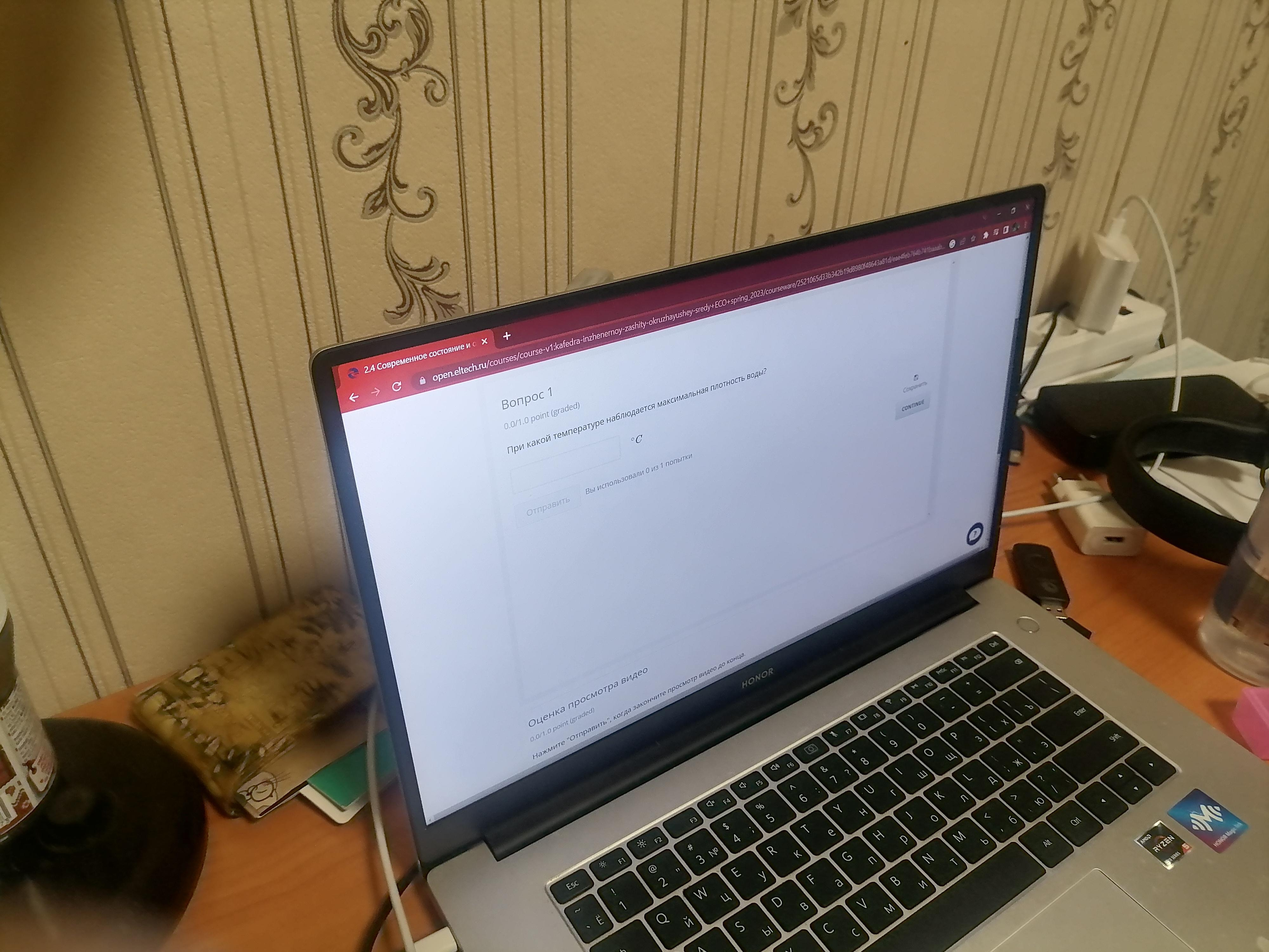monitor: (306, 181, 1050, 871)
